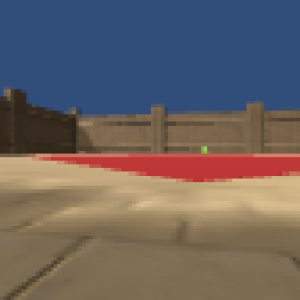deathZone: (32, 155, 300, 187)
goodGoal: (200, 145, 210, 155)
